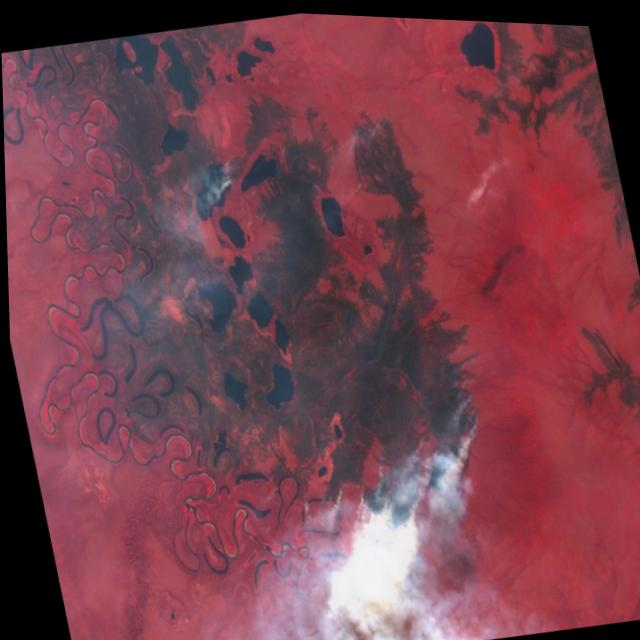fire: (252, 325, 511, 582), (315, 81, 425, 225), (191, 114, 270, 214)
